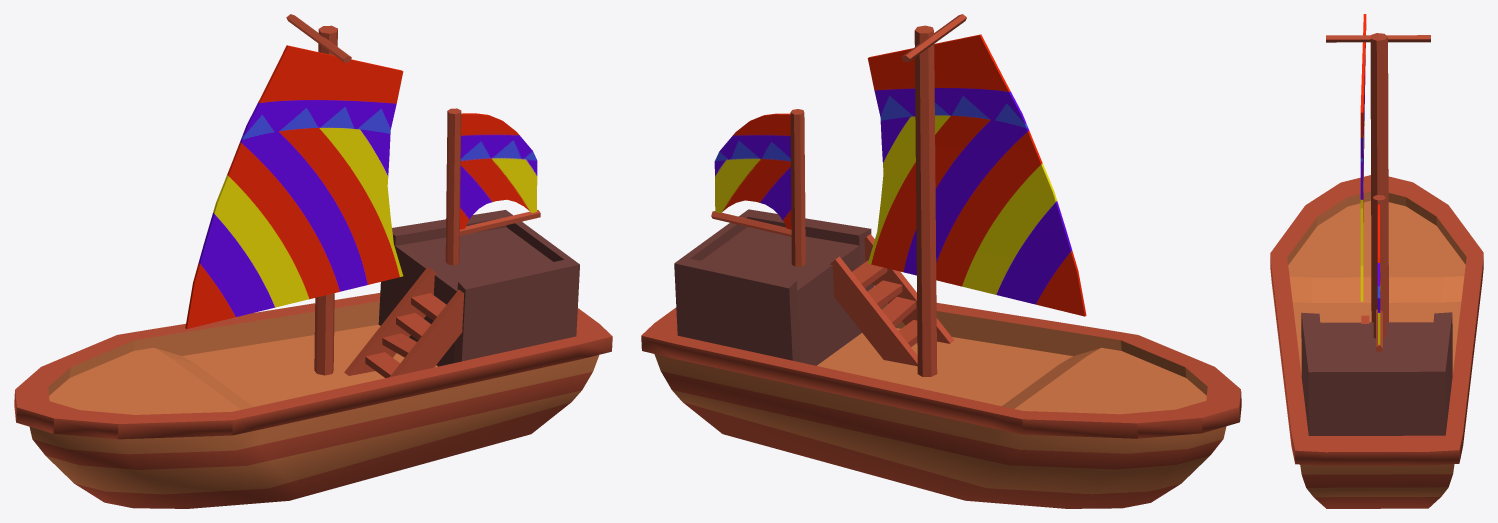
The model's file is ship.glb.
3 renders of one model, left to right at view 1: azimuth 30°, elevation 25°; view 2: azimuth 150°, elevation 25°; view 3: azimuth 270°, elevation 25°, orthographic. The views are drawn at different scales.
Visible parts, largest first — view 1: Balangay, Plane, Stairs, Balngay tail, Pole1, Pole2.001; view 2: Balangay, Plane, Pole2.001, Stairs, Balngay tail, Pole1; view 3: Balangay, Pole2.001, Pole1, Plane, Balngay tail.
Part boxes in pixels (x1,y1,x2,y2): Balangay: [14, 210, 612, 508]; Plane: [185, 45, 403, 328]; Stairs: [344, 267, 464, 377]; Balngay tail: [460, 113, 537, 229]; Pole1: [445, 108, 540, 265]; Pole2.001: [286, 14, 351, 375]; Balangay: [641, 209, 1241, 508]; Plane: [867, 34, 1086, 316]; Pole2.001: [901, 14, 966, 376]; Stairs: [829, 234, 954, 366]; Balngay tail: [714, 113, 791, 229]; Pole1: [711, 109, 805, 266]; Balangay: [1270, 175, 1483, 508]; Pole2.001: [1326, 33, 1430, 322]; Pole1: [1373, 195, 1386, 352]; Plane: [1360, 14, 1366, 301]; Balngay tail: [1377, 204, 1380, 344].
Bounding box in the file's own units: 41.59 × 30.6 × 15.01.
Materials: 4 (4 with a texture image).
